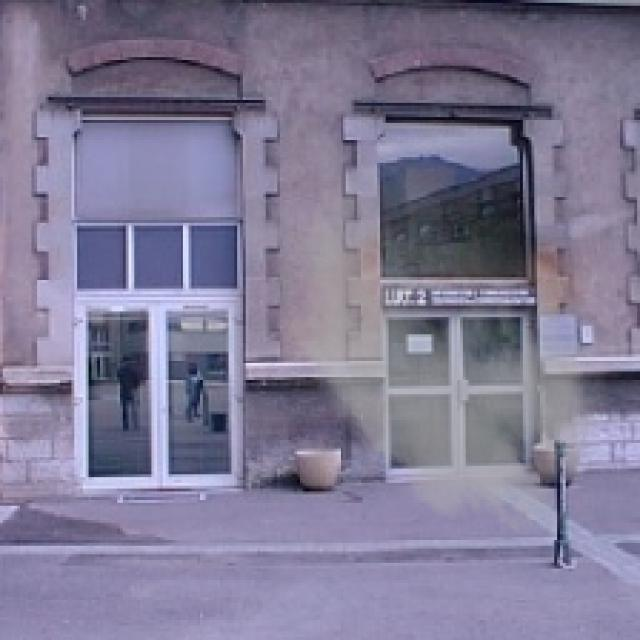Smoke: (251, 122, 626, 548)
